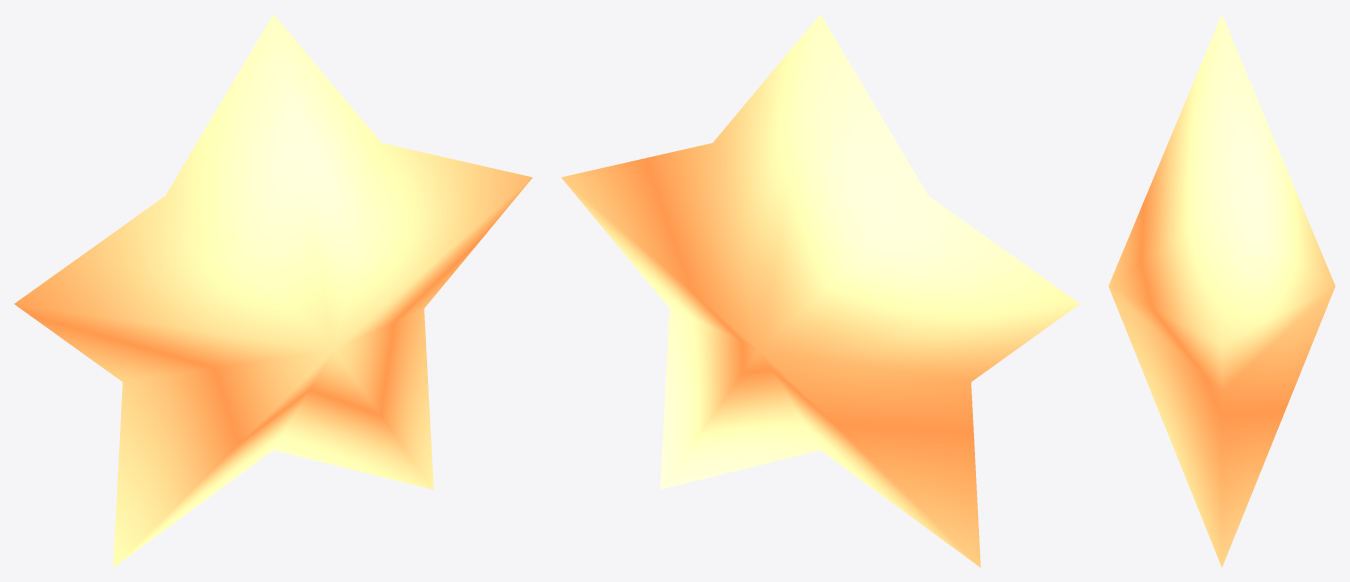
File: XMASStar1.glb
3 renders of one model, left to right at view 1: azimuth 30°, elevation 25°; view 2: azimuth 150°, elevation 25°; view 3: azimuth 270°, elevation 25°, orthographic. The views are drawn at different scales.
Parts seen in each view (by area): view 1: Christmas_Tree_A.001; view 2: Christmas_Tree_A.001; view 3: Christmas_Tree_A.001.
Boxes of the visible parts, x1,y1,x2,y2 form: Christmas_Tree_A.001: [14, 14, 532, 567]; Christmas_Tree_A.001: [561, 14, 1079, 567]; Christmas_Tree_A.001: [1108, 14, 1335, 567].
Bounding box in the file's own units: 2.89 × 2.74 × 1.17.
